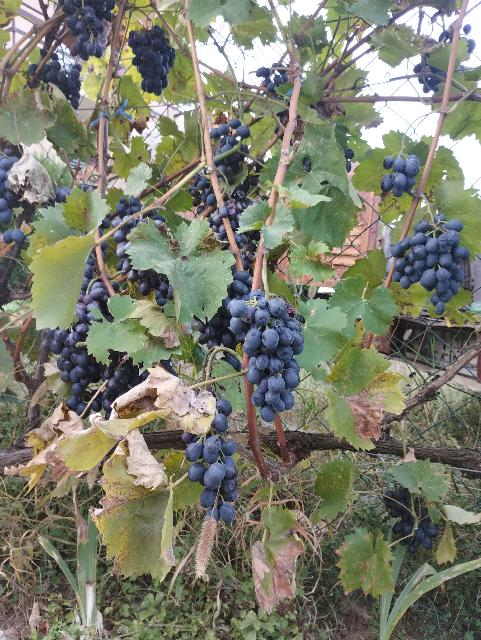grapes: (228, 290, 305, 420), (391, 214, 471, 315), (182, 399, 239, 522), (129, 25, 176, 96)
